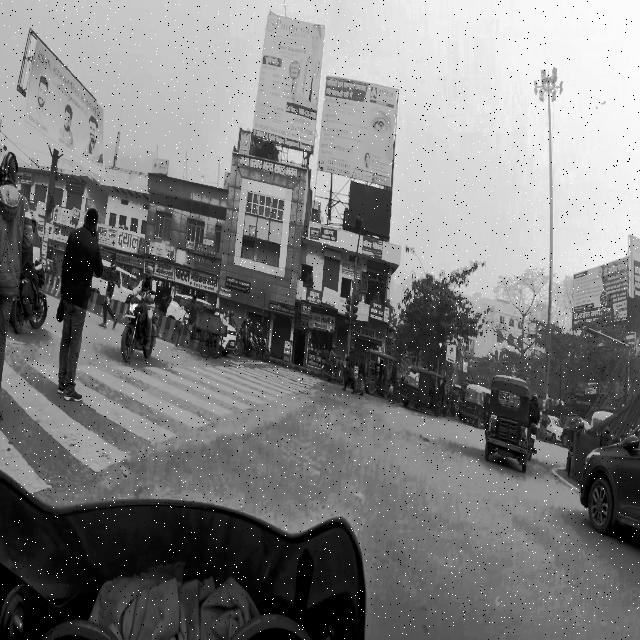Auto-Rickshaw: (484, 371, 532, 478)
Bike: (123, 268, 160, 364)
Car: (576, 408, 640, 539), (162, 286, 237, 359)
